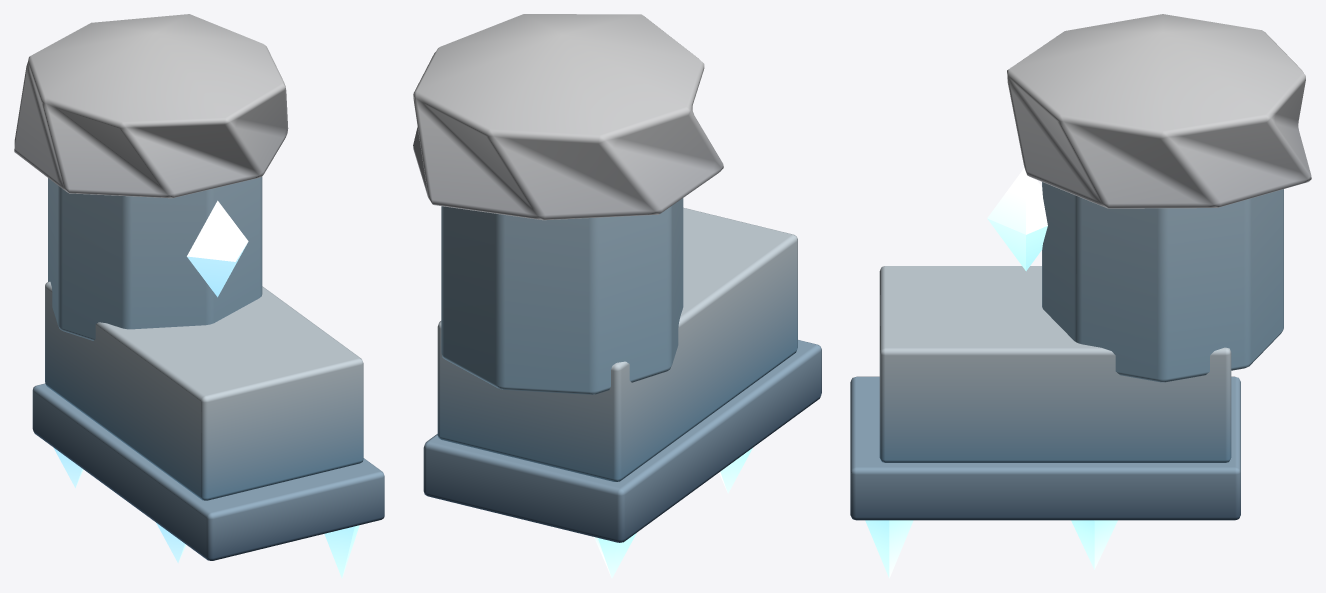
Rendered from lg_frostgait_boots.glb.
The picture shows the model from 3 angles, left to right: view 1: azimuth 30°, elevation 25°; view 2: azimuth 150°, elevation 25°; view 3: azimuth 270°, elevation 25°; orthographic projection. The views are drawn at different scales.
Visible parts, largest first — view 1: lg_frostgait_boots, lg_frostgait_boots_glow; view 2: lg_frostgait_boots, lg_frostgait_boots_glow; view 3: lg_frostgait_boots, lg_frostgait_boots_glow.
Boxes of the visible parts, left/top/right/bottom form: lg_frostgait_boots: left=14, top=14, right=384, bottom=560; lg_frostgait_boots_glow: left=53, top=200, right=359, bottom=578; lg_frostgait_boots: left=413, top=14, right=821, bottom=542; lg_frostgait_boots_glow: left=594, top=448, right=752, bottom=578; lg_frostgait_boots: left=850, top=14, right=1311, bottom=520; lg_frostgait_boots_glow: left=865, top=168, right=1117, bottom=578.
Bounding box in the file's own units: 0.5869 × 1.16 × 0.9446.
